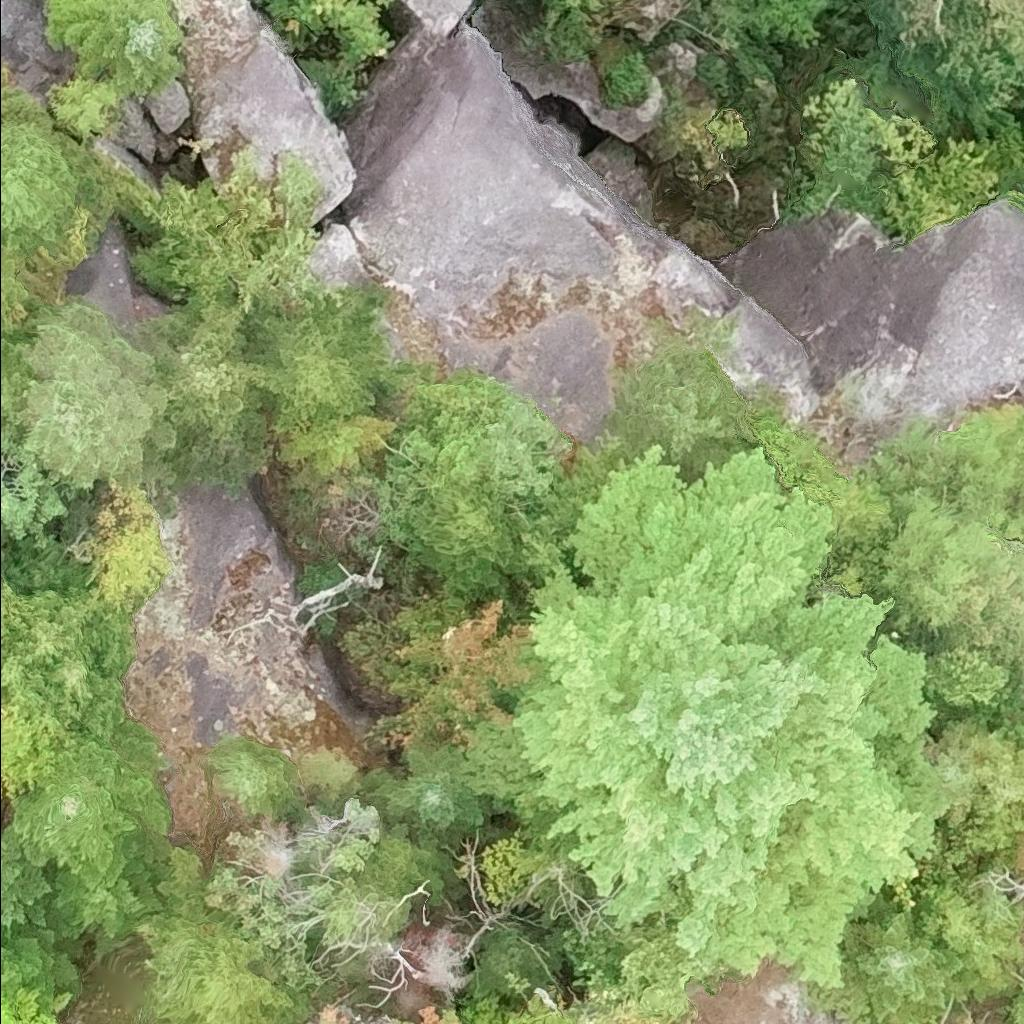crown: (463, 437, 938, 990), (334, 592, 548, 755), (131, 844, 325, 1023), (22, 306, 178, 491), (11, 737, 174, 890), (246, 282, 385, 437), (816, 896, 971, 1023), (135, 297, 267, 442), (405, 470, 514, 600), (70, 475, 171, 611), (368, 738, 483, 845), (918, 883, 1023, 998), (42, 854, 171, 940), (0, 420, 71, 553), (0, 823, 54, 942), (416, 1000, 465, 1023), (0, 538, 8, 647), (313, 1004, 351, 1023)
